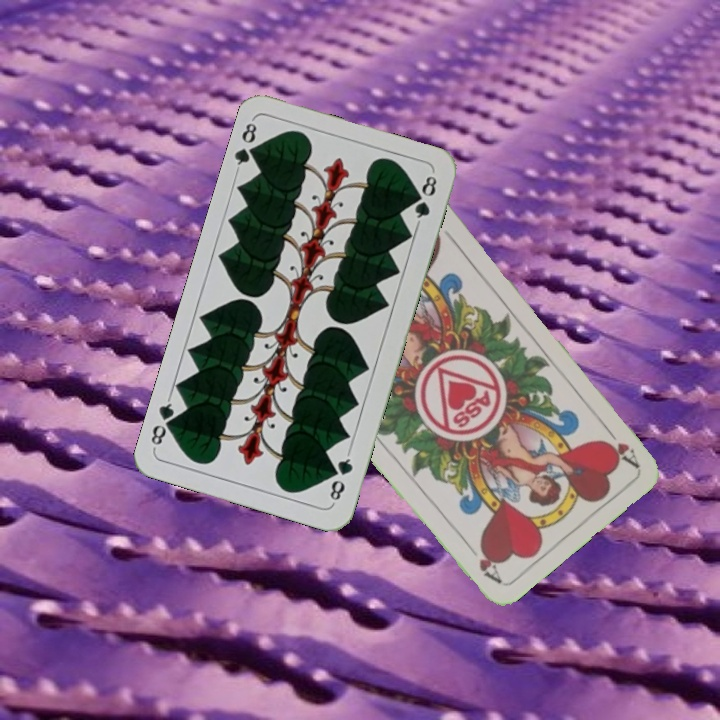G8: (230, 116, 264, 174), (325, 448, 356, 506)
HA: (598, 418, 641, 469)
